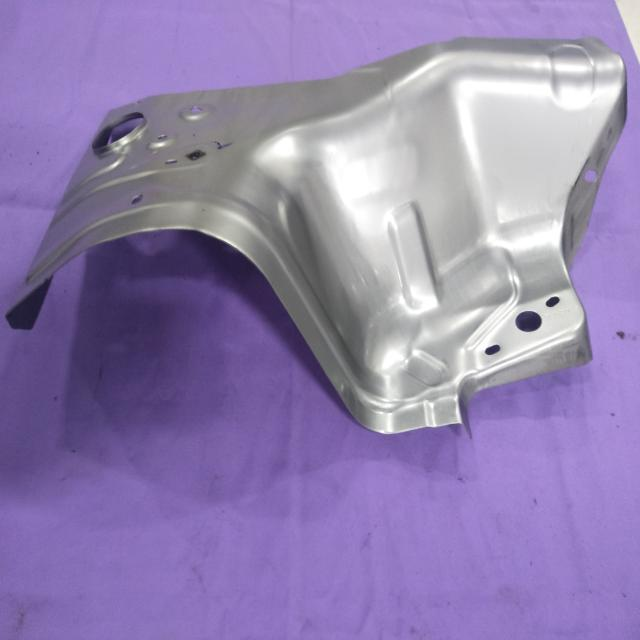Healthy: (6, 33, 628, 440)
